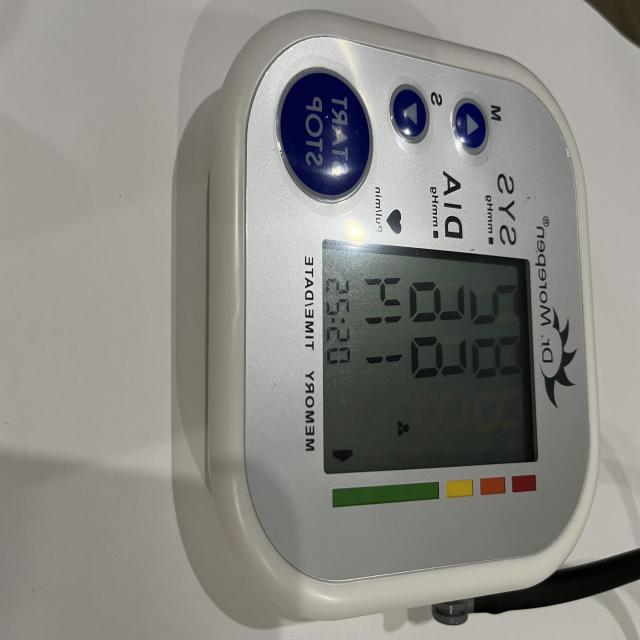bp: (168, 11, 640, 634)
